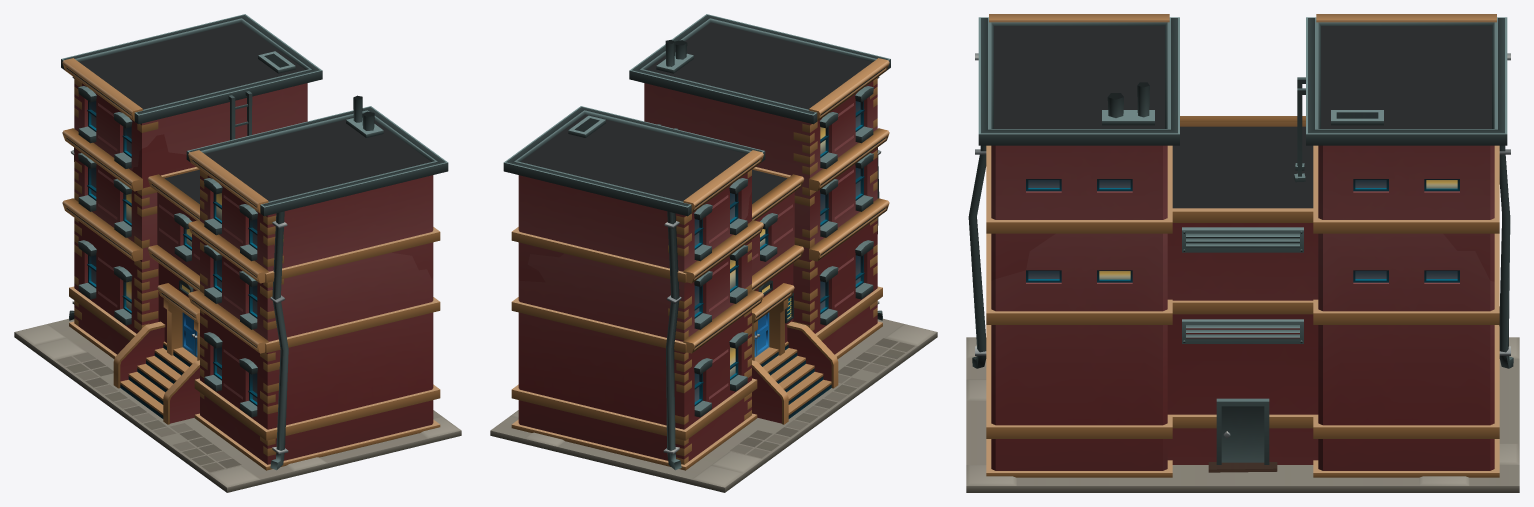
Rendered from Building_5B.fbx.
The picture shows the model from 3 angles, left to right: view 1: azimuth 30°, elevation 25°; view 2: azimuth 150°, elevation 25°; view 3: azimuth 270°, elevation 25°; orthographic projection. The views are drawn at different scales.
Visible parts, largest first — view 1: Building_5B, Window_Lights_5B; view 2: Building_5B, Window_Lights_5B; view 3: Building_5B.
Part boxes in pixels (x1=…): Building_5B: x1=14, y1=14, x2=461, y2=492; Window_Lights_5B: x1=126, y1=193, x2=221, y2=310; Building_5B: x1=490, y1=14, x2=937, y2=492; Window_Lights_5B: x1=730, y1=127, x2=825, y2=376; Building_5B: x1=966, y1=14, x2=1519, y2=492.
Size of the model in its own units: 1400 by 1693 by 2200.
